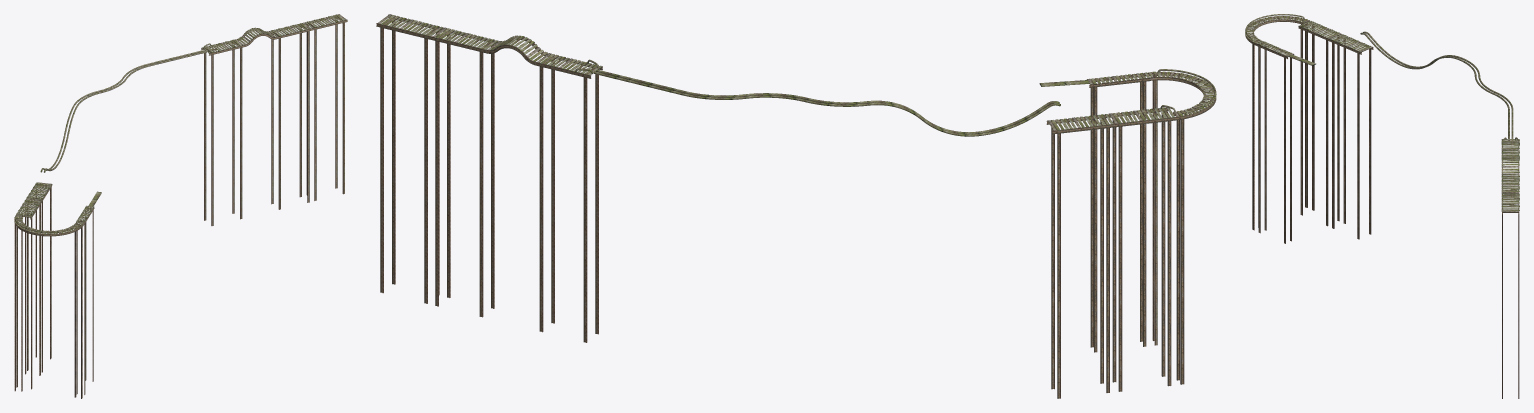
The picture shows the model from 3 angles, left to right: view 1: azimuth 30°, elevation 25°; view 2: azimuth 150°, elevation 25°; view 3: azimuth 270°, elevation 25°; orthographic projection. The views are drawn at different scales.
Parts seen in each view (by area): view 1: Ramp_001__60_, Ramp_001__59_, Ramp_001__58_, ramp_001, Ramp_001__61_, Ramp_001__62_, Ramp_001__63_, pipe, ramp; view 2: Ramp_001__61_, Ramp_001__60_, Ramp_001__59_, Ramp_001__62_, ramp_001, Ramp_001__63_, Ramp_001__58_, pipe, ramp; view 3: Ramp_001__62_, Ramp_001__61_, Ramp_001__63_, ramp_001, pipe, Ramp_001__58_, Ramp_001__59_, ramp, Ramp_001__60_.
Part boxes in pixels (x1,y1,x2,y2): Ramp_001__60_: (201, 39, 244, 225); Ramp_001__59_: (269, 22, 311, 209); Ramp_001__58_: (304, 14, 347, 200); ramp_001: (14, 215, 83, 398); Ramp_001__61_: (15, 199, 41, 389); Ramp_001__62_: (26, 182, 52, 372); Ramp_001__63_: (76, 205, 94, 394); pipe: (40, 50, 206, 172); ramp: (237, 27, 276, 46); Ramp_001__61_: (1108, 107, 1175, 391); Ramp_001__60_: (535, 53, 602, 342); Ramp_001__59_: (431, 27, 498, 317); Ramp_001__62_: (1046, 114, 1114, 398); ramp_001: (1147, 71, 1216, 384); Ramp_001__63_: (1086, 72, 1150, 352); Ramp_001__58_: (376, 14, 443, 303); pipe: (593, 69, 1060, 136); ramp: (486, 35, 547, 65); Ramp_001__62_: (1329, 34, 1373, 239); Ramp_001__61_: (1298, 21, 1341, 226); Ramp_001__63_: (1256, 41, 1294, 243); ramp_001: (1245, 16, 1309, 230); pipe: (1360, 31, 1513, 140); Ramp_001__58_: (1501, 193, 1519, 398); Ramp_001__59_: (1501, 174, 1519, 193); ramp: (1501, 157, 1519, 174); Ramp_001__60_: (1501, 139, 1519, 156).
Size of the model in its own units: 6035 by 2806 by 3083.
